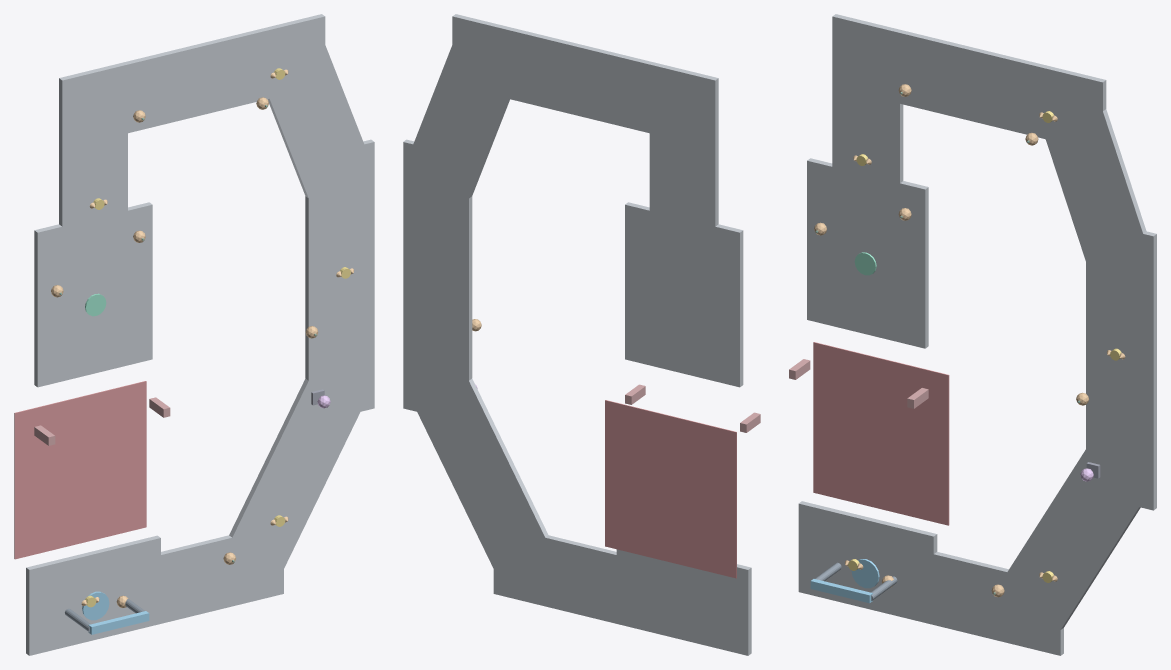
File: level_03_halloween.glb
The picture shows the model from 3 angles, left to right: view 1: azimuth 30°, elevation 25°; view 2: azimuth 150°, elevation 25°; view 3: azimuth 330°, elevation 25°; orthographic projection. The views are drawn at different scales.
Visible parts, largest first — view 1: VOID_DEBUG_NONCOLLIDING_0014, TRICK_OR_TREAT_START_0001, LONG_FORWARD_DETOUR_SEG2_0004, LONG_FORWARD_DETOUR_SEG5_0007, LONG_FORWARD_DETOUR_SEG4_0006, VISIBLE_REAR_EXIT_0002, LONG_FORWARD_DETOUR_SEG6_0008, LONG_FORWARD_DETOUR_SEG3_0005, LONG_FORWARD_DETOUR_SEG1_0003, LONG_FORWARD_DETOUR_TURN3_0011, LONG_FORWARD_DETOUR_TURN5_0013, LONG_FORWARD_DETOUR_TURN2_0010 (+3 smaller); view 2: VOID_DEBUG_NONCOLLIDING_0014, TRICK_OR_TREAT_START_0001, LONG_FORWARD_DETOUR_SEG2_0004, LONG_FORWARD_DETOUR_SEG4_0006, LONG_FORWARD_DETOUR_SEG5_0007, VISIBLE_REAR_EXIT_0002, LONG_FORWARD_DETOUR_SEG3_0005, LONG_FORWARD_DETOUR_SEG1_0003, LONG_FORWARD_DETOUR_SEG6_0008, LONG_FORWARD_DETOUR_TURN4_0012, LONG_FORWARD_DETOUR_TURN1_0009, LONG_FORWARD_DETOUR_TURN3_0011 (+2 smaller); view 3: VOID_DEBUG_NONCOLLIDING_0014, TRICK_OR_TREAT_START_0001, LONG_FORWARD_DETOUR_SEG2_0004, LONG_FORWARD_DETOUR_SEG4_0006, LONG_FORWARD_DETOUR_SEG5_0007, VISIBLE_REAR_EXIT_0002, LONG_FORWARD_DETOUR_SEG6_0008, LONG_FORWARD_DETOUR_SEG3_0005, LONG_FORWARD_DETOUR_SEG1_0003, LONG_FORWARD_DETOUR_TURN1_0009, LONG_FORWARD_DETOUR_TURN5_0013, LONG_FORWARD_DETOUR_TURN2_0010 (+4 smaller).
Boxes of the visible parts, x1,y1,x2,y2 form: VOID_DEBUG_NONCOLLIDING_0014: (14, 381, 146, 559); TRICK_OR_TREAT_START_0001: (34, 202, 152, 387); LONG_FORWARD_DETOUR_SEG2_0004: (87, 20, 297, 142); LONG_FORWARD_DETOUR_SEG5_0007: (220, 367, 372, 583); LONG_FORWARD_DETOUR_SEG4_0006: (305, 171, 374, 395); VISIBLE_REAR_EXIT_0002: (26, 535, 160, 655); LONG_FORWARD_DETOUR_SEG6_0008: (89, 532, 256, 640); LONG_FORWARD_DETOUR_SEG3_0005: (260, 35, 363, 208); LONG_FORWARD_DETOUR_SEG1_0003: (59, 93, 127, 249); LONG_FORWARD_DETOUR_TURN3_0011: (305, 139, 374, 226); LONG_FORWARD_DETOUR_TURN5_0013: (217, 525, 283, 608); LONG_FORWARD_DETOUR_TURN2_0010: (257, 14, 325, 99); VOID_DEBUG_NONCOLLIDING_0014: (605, 400, 736, 578); TRICK_OR_TREAT_START_0001: (625, 202, 743, 387); LONG_FORWARD_DETOUR_SEG2_0004: (479, 20, 690, 141); LONG_FORWARD_DETOUR_SEG4_0006: (403, 171, 472, 395); LONG_FORWARD_DETOUR_SEG5_0007: (405, 368, 548, 578); VISIBLE_REAR_EXIT_0002: (616, 549, 751, 655); LONG_FORWARD_DETOUR_SEG3_0005: (413, 34, 517, 208); LONG_FORWARD_DETOUR_SEG1_0003: (649, 93, 718, 226); LONG_FORWARD_DETOUR_SEG6_0008: (520, 532, 648, 630); LONG_FORWARD_DETOUR_TURN4_0012: (403, 340, 472, 424); LONG_FORWARD_DETOUR_TURN1_0009: (649, 64, 718, 148); LONG_FORWARD_DETOUR_TURN3_0011: (403, 139, 472, 226); VOID_DEBUG_NONCOLLIDING_0014: (813, 342, 949, 525); TRICK_OR_TREAT_START_0001: (807, 158, 928, 348); LONG_FORWARD_DETOUR_SEG2_0004: (860, 21, 1077, 146); LONG_FORWARD_DETOUR_SEG4_0006: (1086, 251, 1156, 481); LONG_FORWARD_DETOUR_SEG5_0007: (999, 437, 1151, 640); VISIBLE_REAR_EXIT_0002: (798, 501, 937, 624); LONG_FORWARD_DETOUR_SEG6_0008: (860, 537, 1032, 648); LONG_FORWARD_DETOUR_SEG3_0005: (1035, 98, 1153, 274); LONG_FORWARD_DETOUR_SEG1_0003: (832, 46, 903, 206); LONG_FORWARD_DETOUR_TURN1_0009: (832, 14, 900, 102); LONG_FORWARD_DETOUR_TURN5_0013: (993, 568, 1063, 655); LONG_FORWARD_DETOUR_TURN2_0010: (1036, 64, 1106, 152).
Bounding box in the file's own units: 42 × 66 × 8.48.
